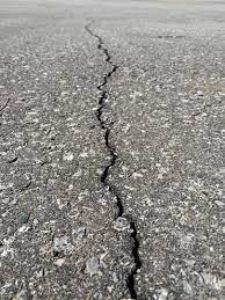crack: (81, 15, 145, 300)
